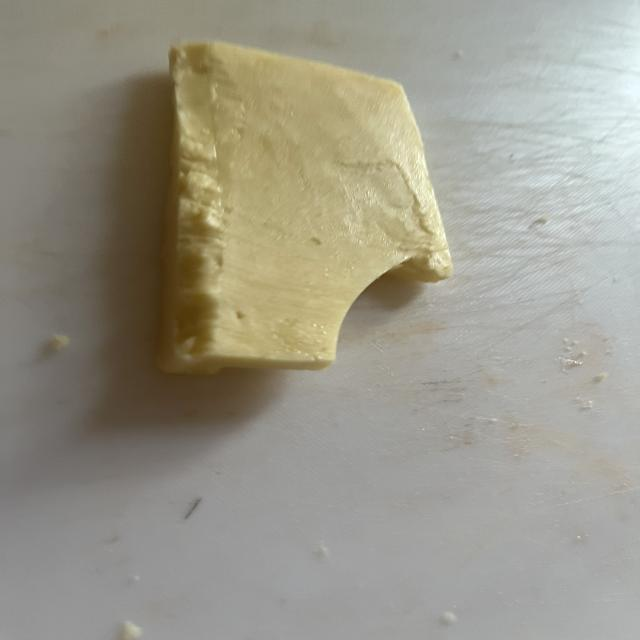cheese: (159, 43, 451, 374)
